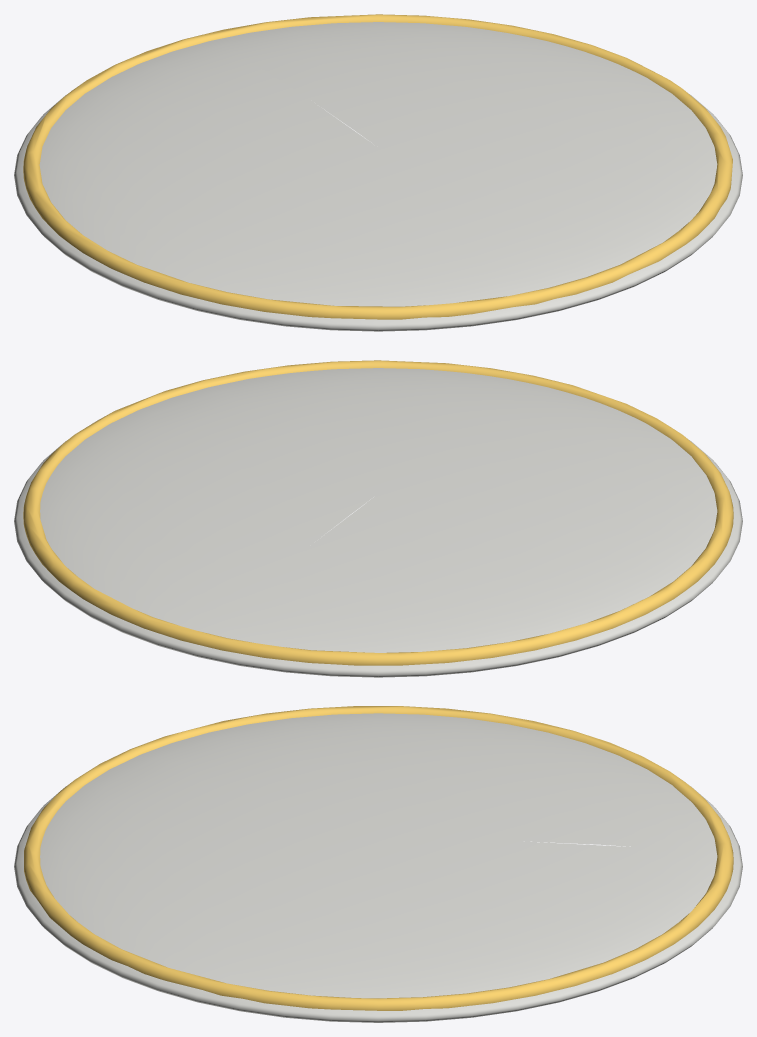
File: sp_palace.glb
3 renders of one model, top to bottom at view 1: azimuth 30°, elevation 25°; view 2: azimuth 150°, elevation 25°; view 3: azimuth 270°, elevation 25°, orthographic.
Bounding box in the file's own units: 12 × 1 × 12.
